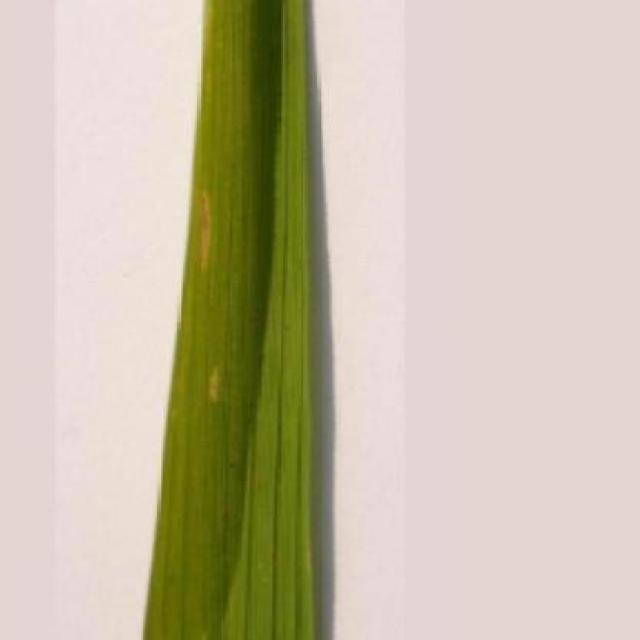Brown_Spot: (138, 0, 318, 640)
